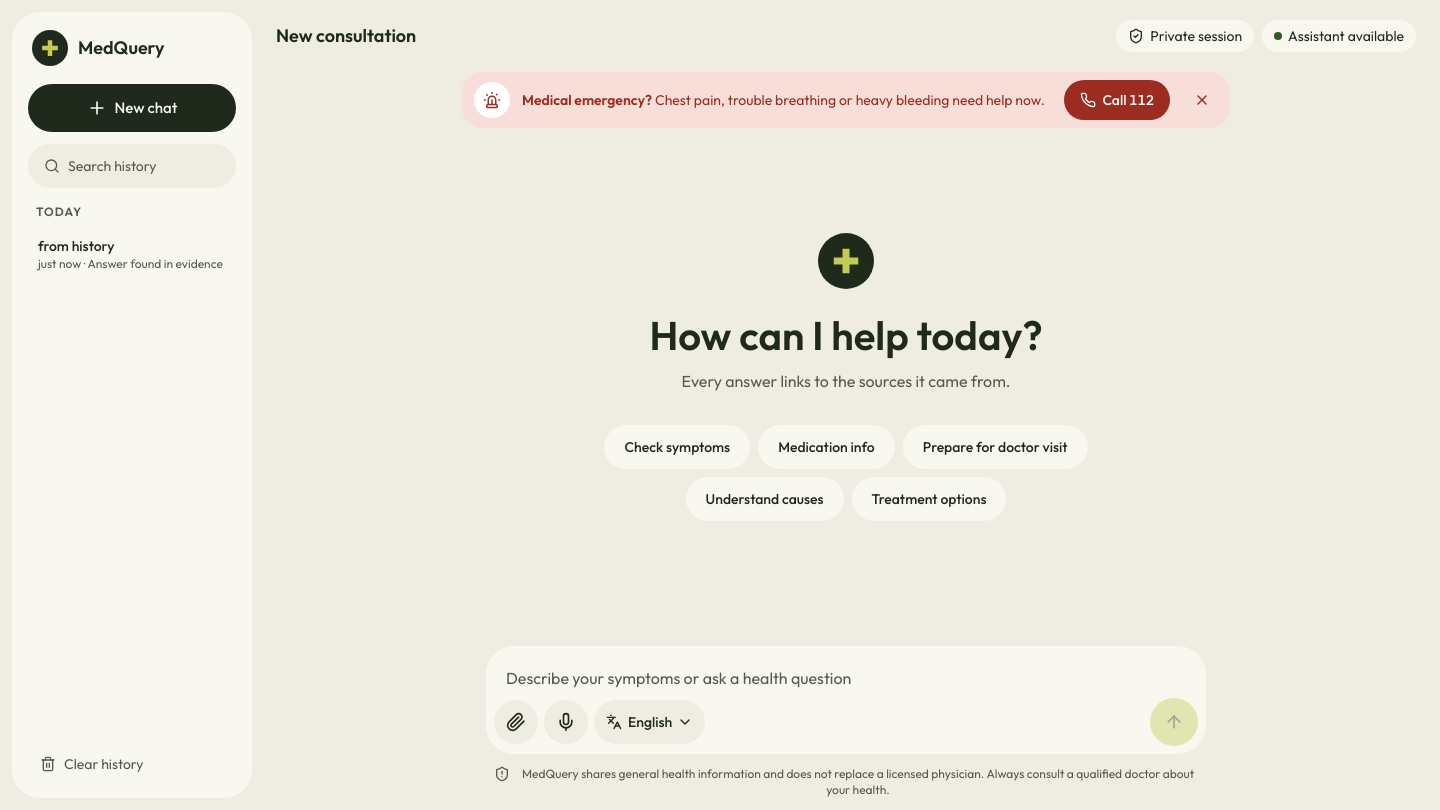
Test case: history items reload a stored result; clear empties the list
Click the button with test id "history-item" at (132, 254), box x1=24 y1=228 x2=240 y2=280
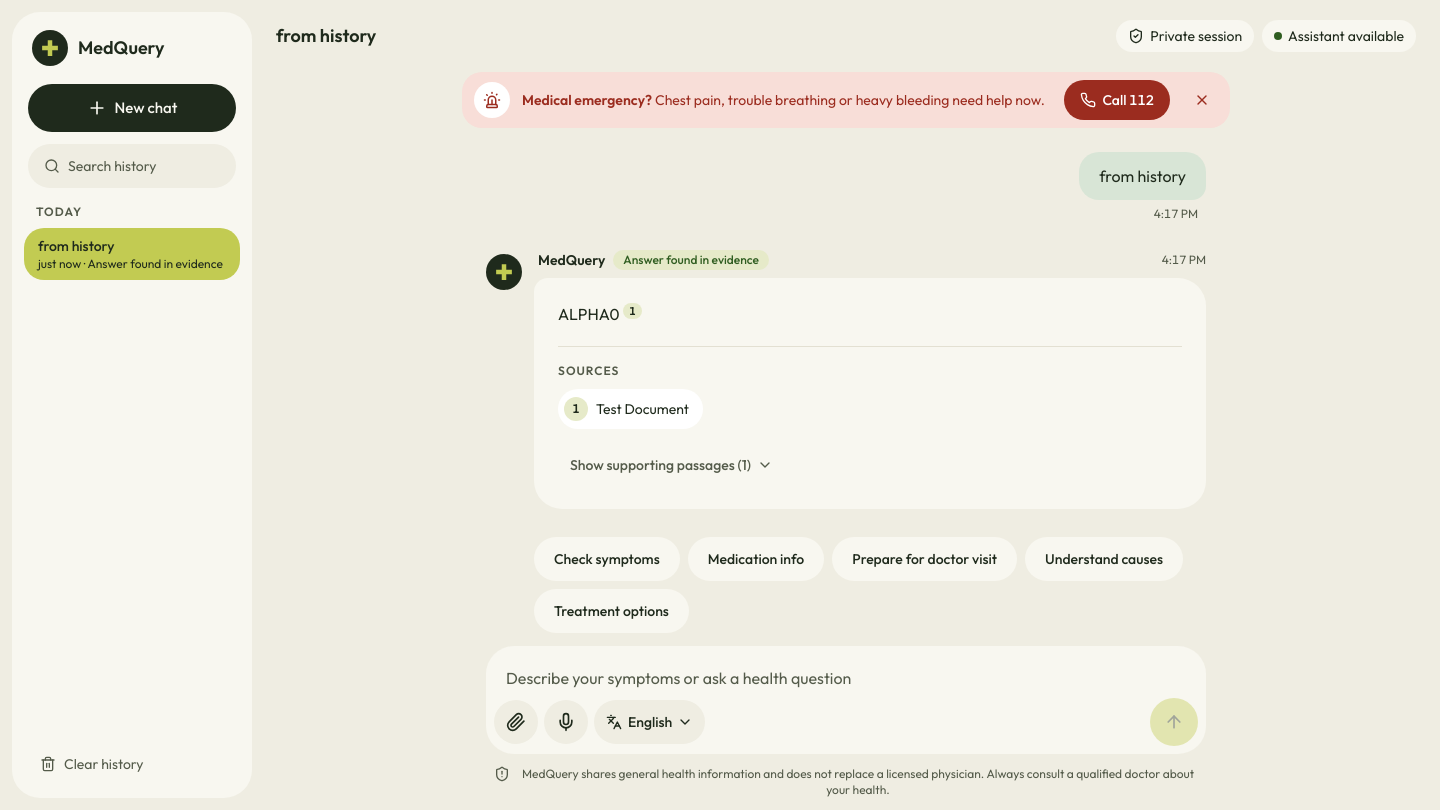
Now the element with test id "user-message" shows "from history", box x1=1099 y1=166 x2=1186 y2=186
Click the button "Clear history" at (132, 764), box x1=24 y1=742 x2=240 y2=786
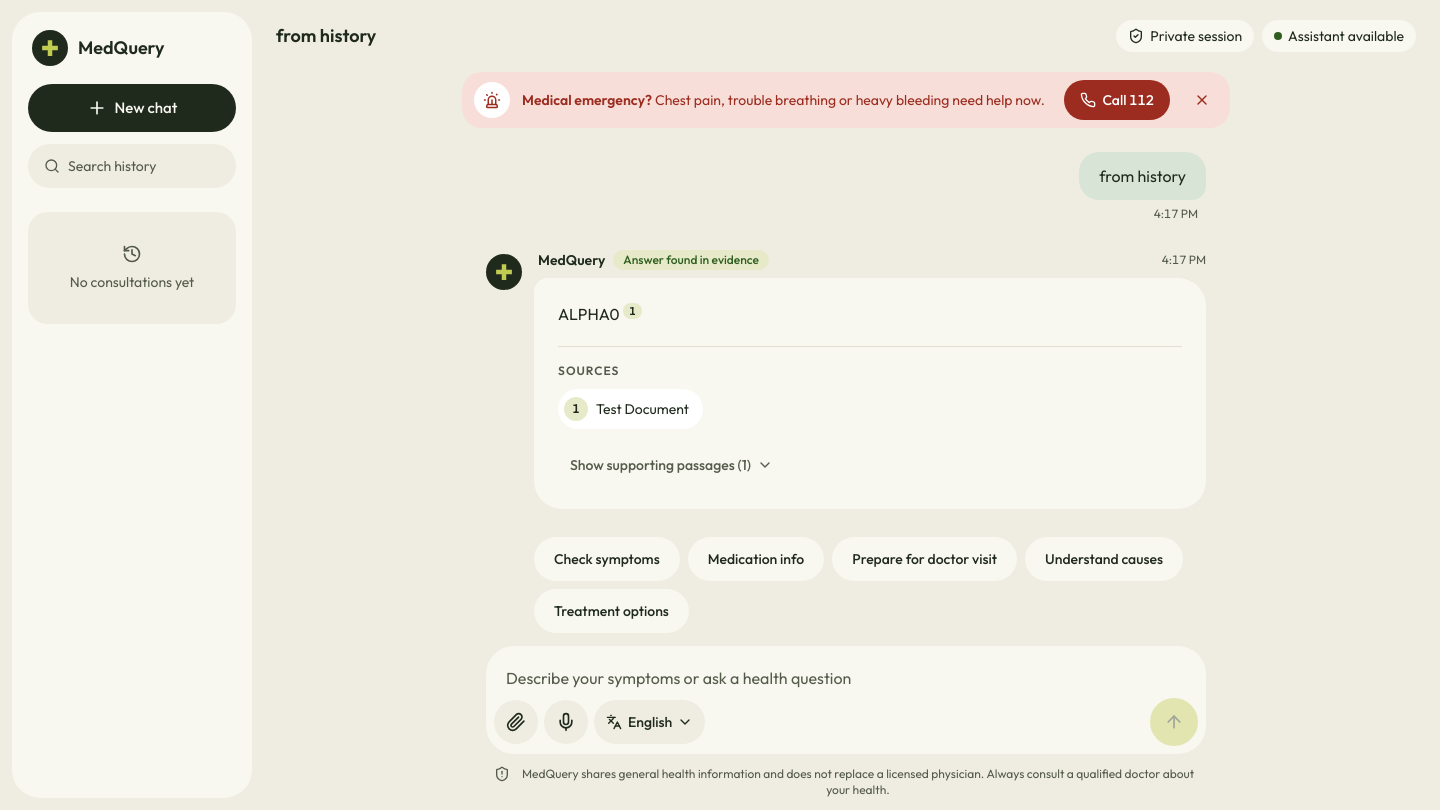
Now the text "No consultations yet" is shown, box x1=70 y1=272 x2=194 y2=292
